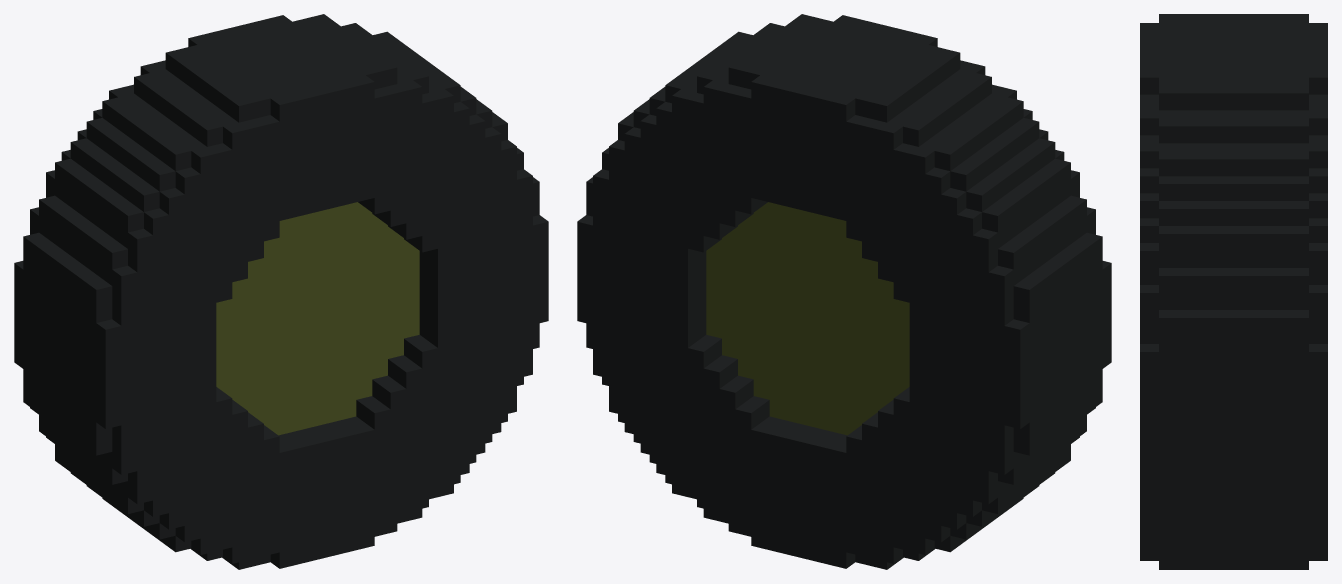
File: utility_4x4_wheel.glb
The picture shows the model from 3 angles, left to right: view 1: azimuth 30°, elevation 25°; view 2: azimuth 150°, elevation 25°; view 3: azimuth 270°, elevation 25°; orthographic projection. The views are drawn at different scales.
Visible parts, largest first — view 1: body:compound; view 2: body:compound; view 3: body:compound.
Part boxes in pixels (x1,y1,x2,y2): body:compound: (14, 14, 548, 569); body:compound: (577, 14, 1111, 569); body:compound: (1140, 14, 1327, 569).
Size of the model in its own units: 0.875 by 0.875 by 0.3125.
